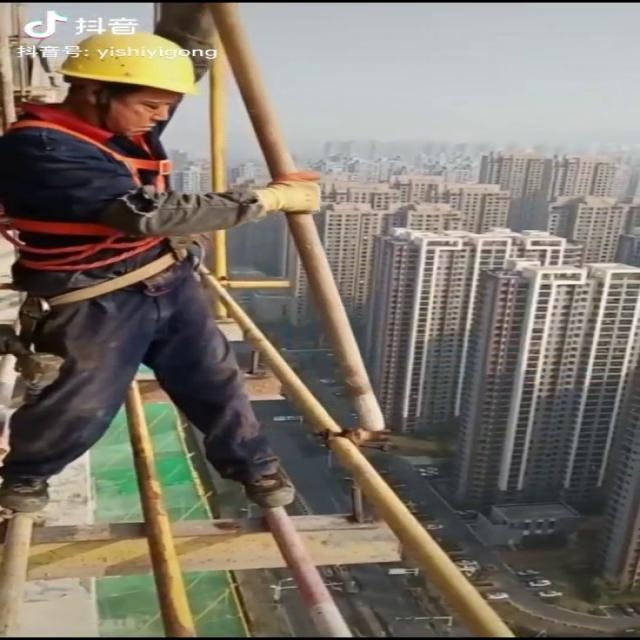Arnes_seguridad: (0, 116, 209, 276)
